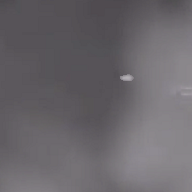Target: (120, 74, 134, 81)
